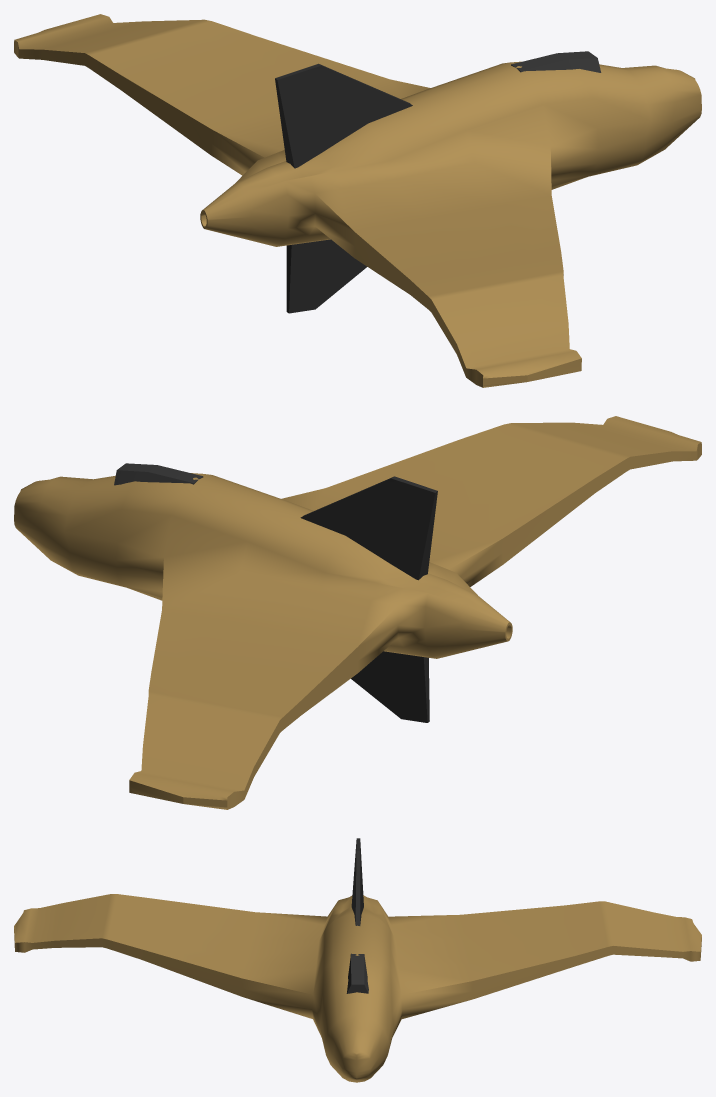
File: Nave.fbx
3 renders of one model, top to bottom at view 1: azimuth 30°, elevation 25°; view 2: azimuth 150°, elevation 25°; view 3: azimuth 270°, elevation 25°, orthographic. The views are drawn at different scales.
Visible parts, largest first — view 1: Base1, Cabina, AletaAbajo, AletaArriba; view 2: Base1, Cabina, AletaAbajo, AletaArriba; view 3: Base1, Cabina, AletaArriba.
Boxes of the visible parts, x1=… form: Base1: x1=14, y1=14, x2=701, y2=387; Cabina: x1=275, y1=63, x2=412, y2=168; AletaAbajo: x1=286, y1=239, x2=367, y2=313; AletaArriba: x1=511, y1=51, x2=601, y2=72; Base1: x1=14, y1=416, x2=701, y2=809; Cabina: x1=300, y1=476, x2=437, y2=580; AletaAbajo: x1=351, y1=651, x2=429, y2=722; AletaArriba: x1=114, y1=463, x2=203, y2=485; Base1: x1=14, y1=894, x2=701, y2=1082; Cabina: x1=351, y1=838, x2=363, y2=925; AletaArriba: x1=346, y1=953, x2=368, y2=993.
Size of the model in its own units: 5.72 by 2.69 by 9.82.
